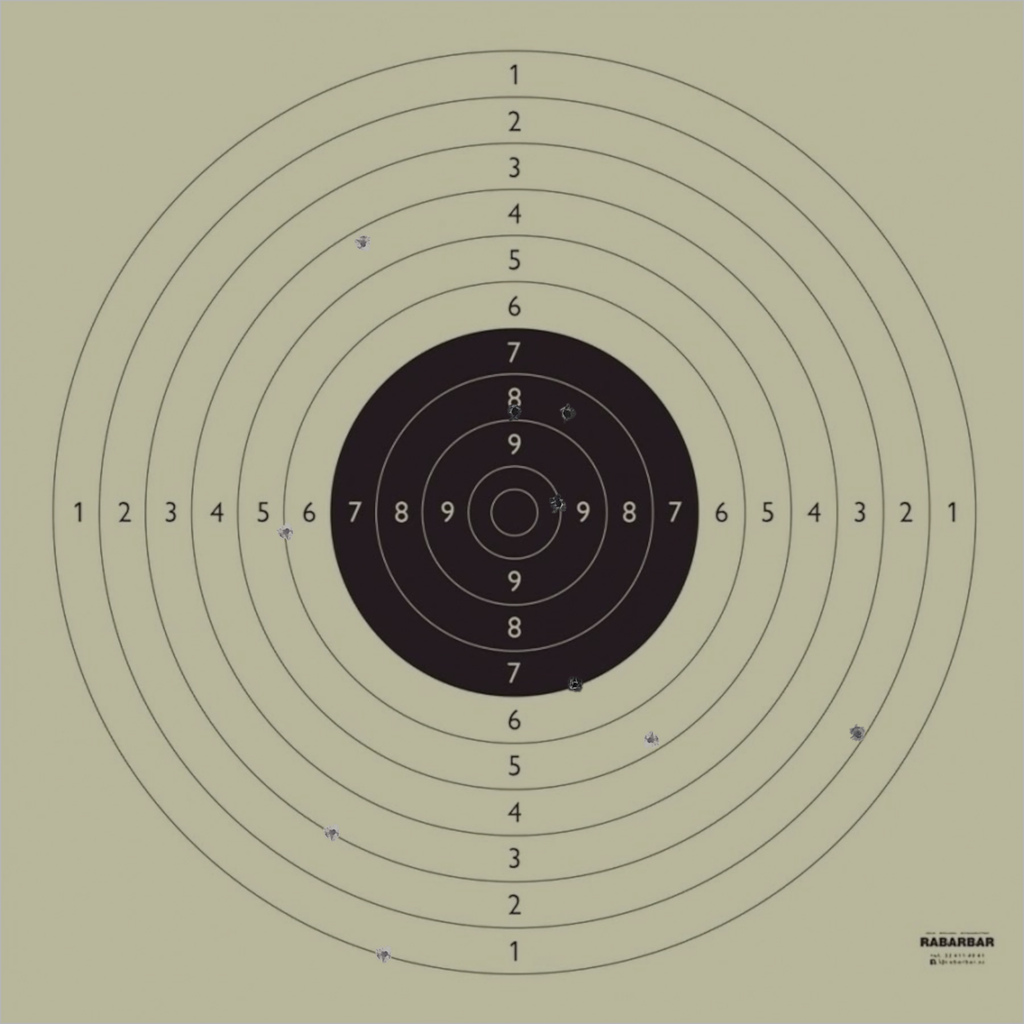0 punktow: (936, 33, 954, 51)
1 punkt: (375, 945, 394, 964)
10 punktow: (549, 494, 567, 513)
2 punkty: (849, 725, 867, 743)
3 punkty: (323, 823, 342, 842)
4 punkty: (354, 234, 372, 253)
5 punktow: (642, 731, 660, 749)
6 punktow: (277, 523, 296, 541)
7 punktow: (565, 676, 584, 694)
8 punktow: (558, 404, 576, 423)
9 punktow: (506, 403, 524, 421)
